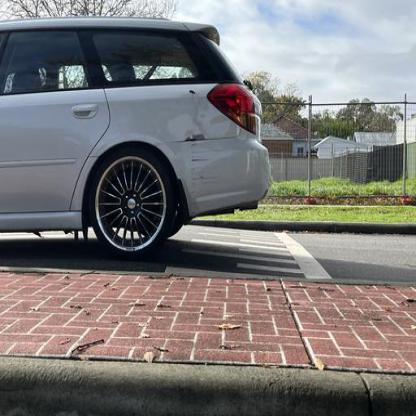Tire: (88, 144, 174, 262)
